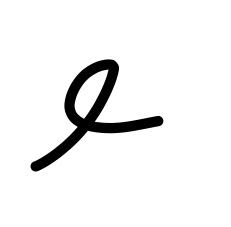o: (59, 54, 176, 137)
